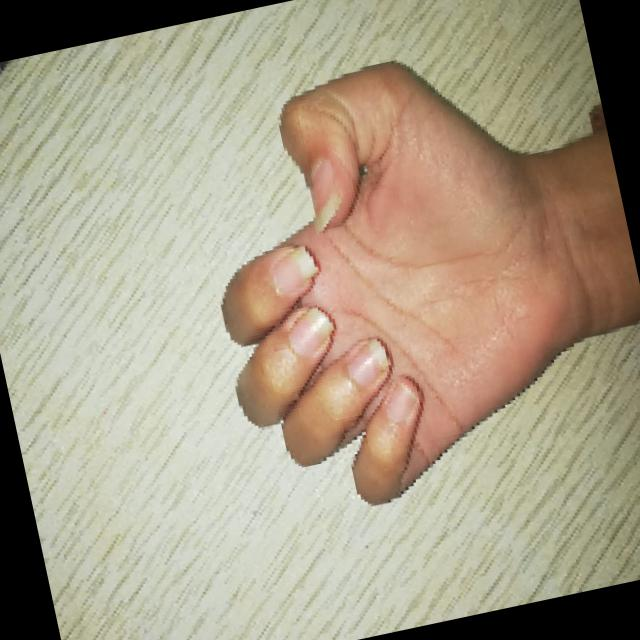Nail: (306, 157, 343, 231), (288, 307, 333, 355), (272, 246, 317, 293), (346, 338, 390, 386), (385, 384, 418, 421)
